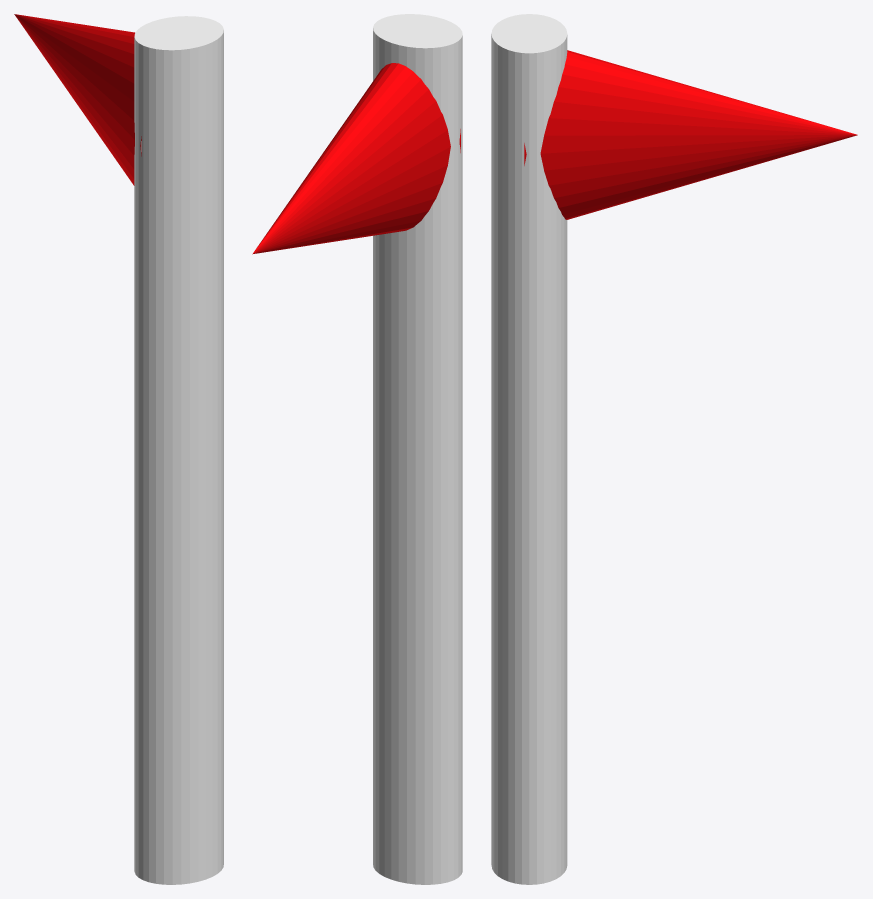
File: goal.obj
The picture shows the model from 3 angles, left to right: view 1: azimuth 30°, elevation 25°; view 2: azimuth 150°, elevation 25°; view 3: azimuth 270°, elevation 25°; orthographic projection.
Visible parts, largest first — view 1: 円柱; view 2: 円柱; view 3: 円柱.
Boxes of the visible parts, <box> form: 円柱: <box>14,14,223,884</box>; 円柱: <box>252,14,462,884</box>; 円柱: <box>491,14,857,884</box>.
Size of the model in its own units: 0.5082 by 5 by 2.
1 material, 1 textured.
